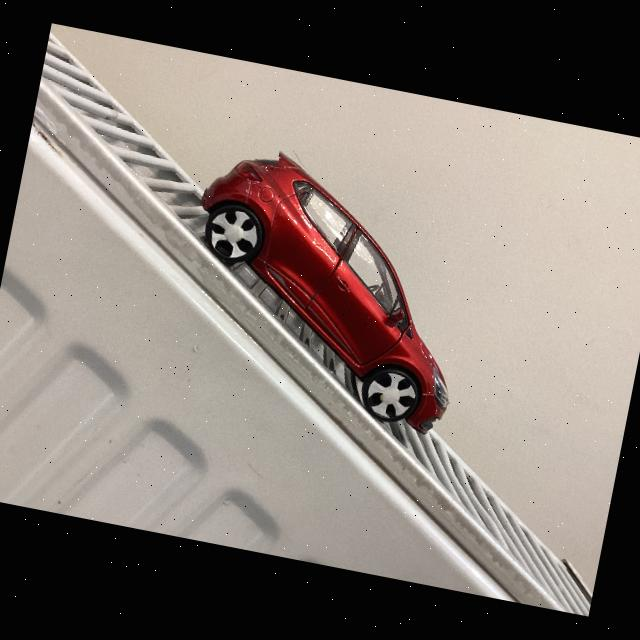Yanlis_Jant: (358, 366, 420, 424), (204, 204, 262, 264)
